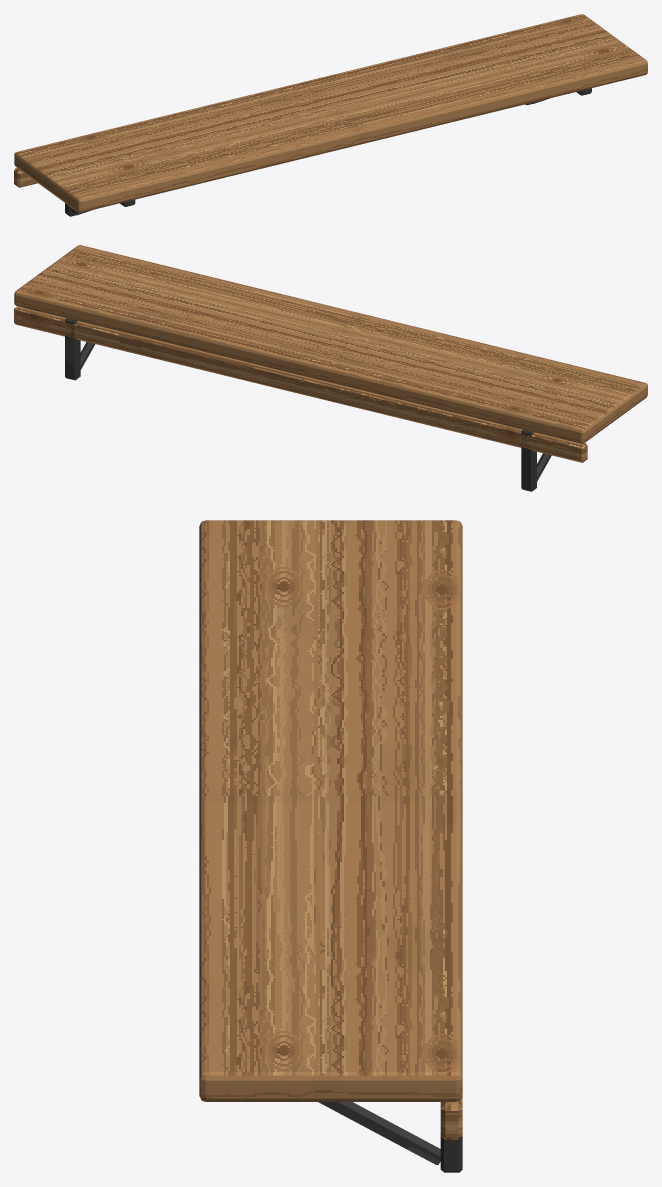
Rendered from shelf_wall.glb.
3 views of the same model, one above another, from view 1: azimuth 30°, elevation 25°; view 2: azimuth 150°, elevation 25°; view 3: azimuth 270°, elevation 25° (orthographic). The views are drawn at different scales.
Visible parts, largest first — view 1: p; view 2: p; view 3: p.
Part boxes in pixels (x1,y1,x2,y2): p: [14, 14, 647, 216]; p: [14, 245, 647, 491]; p: [199, 520, 462, 1172].
Size of the model in its own units: 1.2 by 0.15 by 0.24.
Materials: 2 (2 with a texture image).
